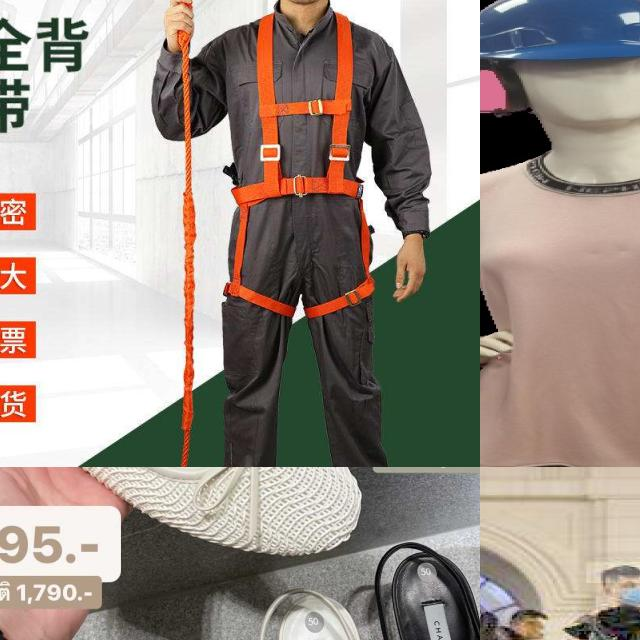Ear-protection: (480, 73, 640, 140)
Harness: (229, 7, 375, 323)
Sandals: (0, 467, 381, 590)
face_mask: (610, 576, 640, 603)
face_nomask: (526, 621, 545, 640)
head_helmet: (480, 0, 640, 70)
head_nohelmet: (586, 562, 640, 583)
